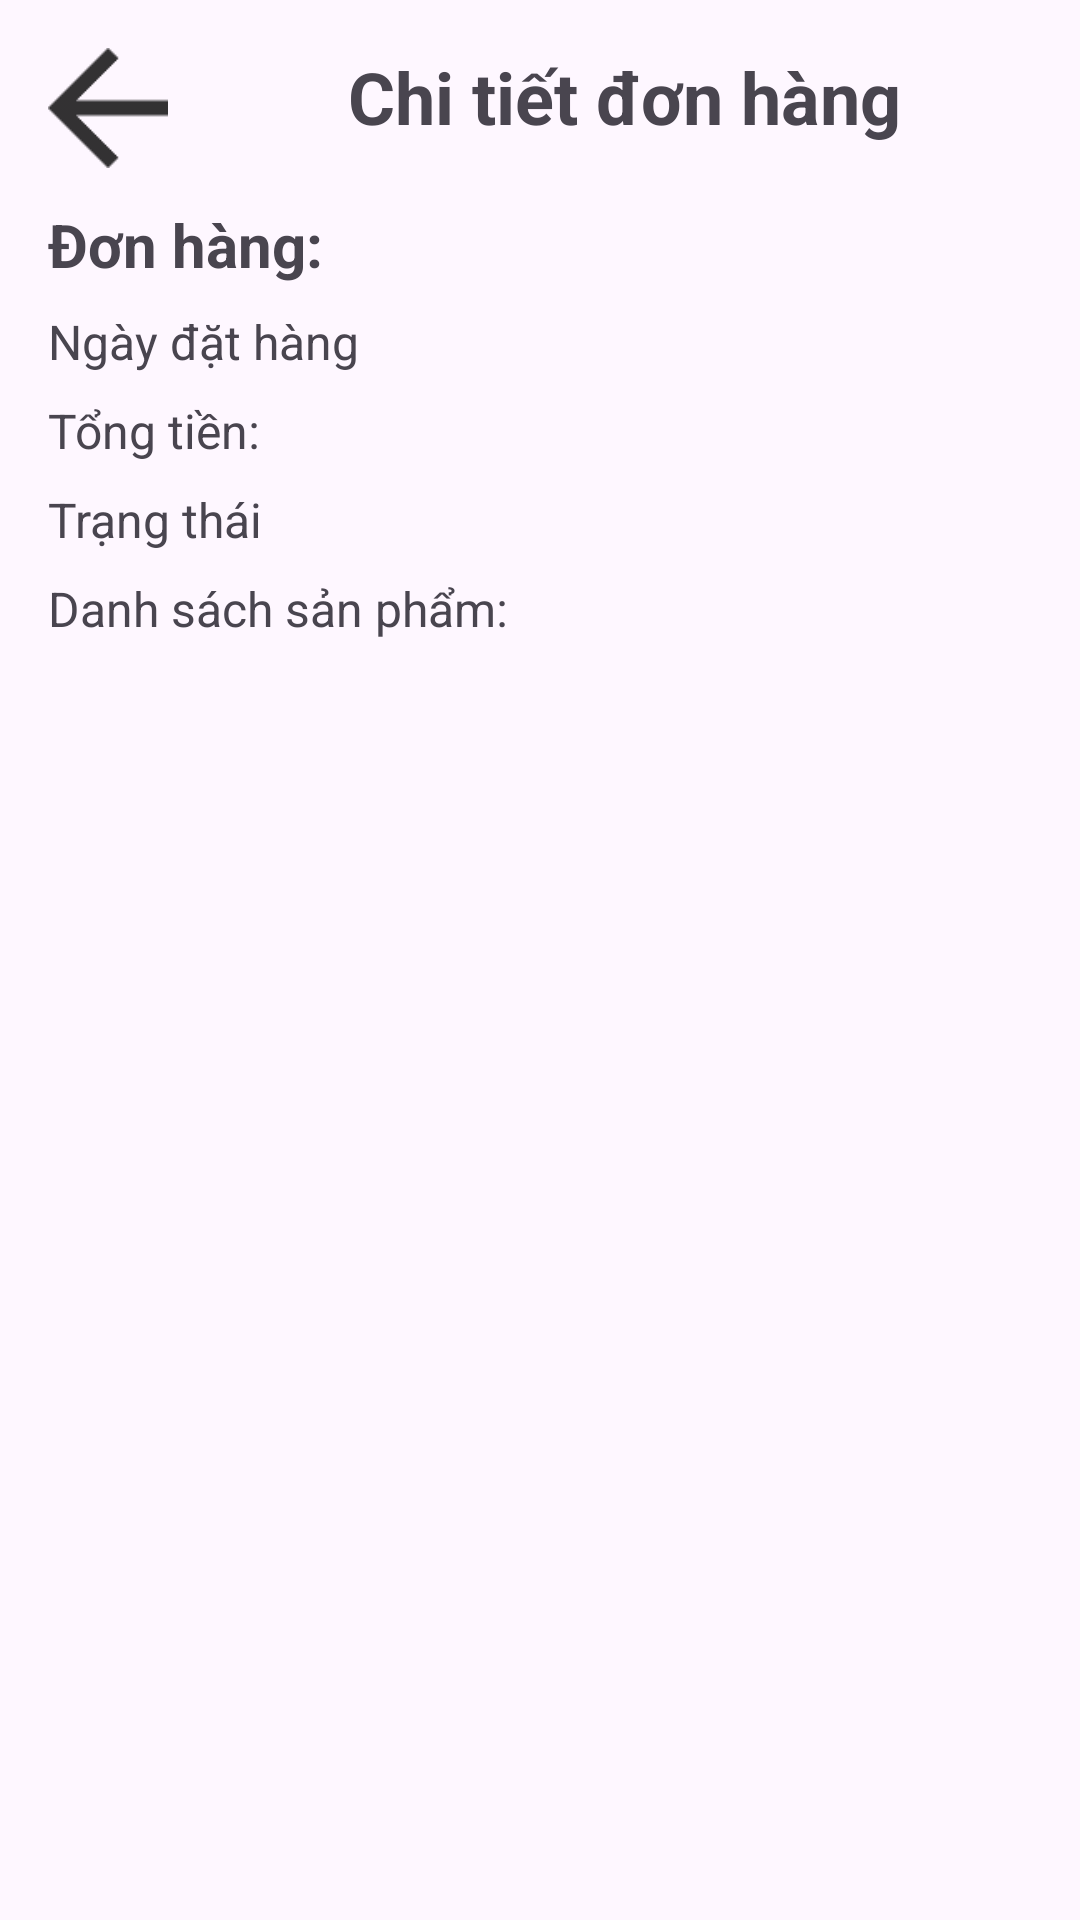

Icons on this 1080w x 1920h Android screen, each with its box as rect(x1, y1, x2, y2):
Thoát: rect(48, 48, 168, 168)
